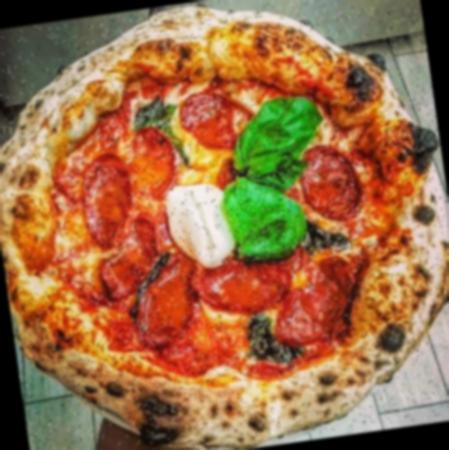Basil: (223, 93, 328, 179), (221, 169, 312, 263), (243, 312, 282, 367), (300, 218, 350, 252), (130, 93, 174, 129)
Cheese: (164, 181, 242, 270)
Pizza: (0, 0, 449, 450)
Tomatoes: (268, 252, 365, 350), (129, 252, 203, 350), (92, 210, 166, 302), (193, 254, 299, 318), (297, 140, 369, 224), (178, 86, 253, 158), (80, 153, 135, 245), (124, 124, 184, 203)
